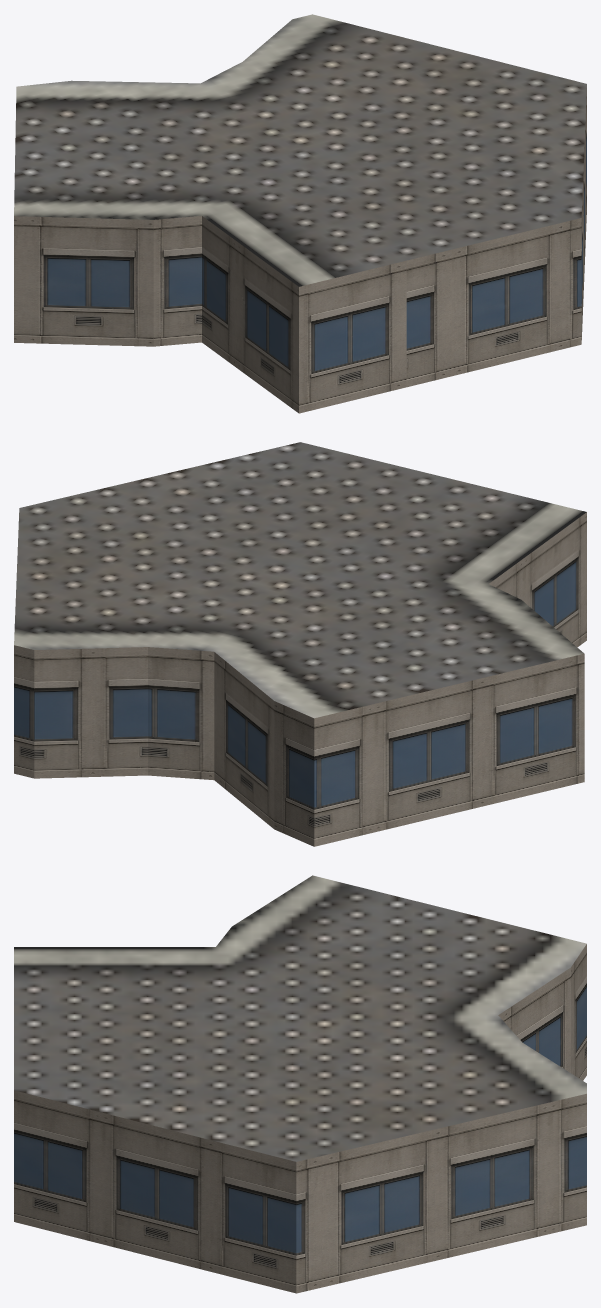
Rendered from building_light_a_46.glb.
The picture shows the model from 3 angles, top to bottom: view 1: azimuth 30°, elevation 25°; view 2: azimuth 150°, elevation 25°; view 3: azimuth 270°, elevation 25°; orthographic projection. The views are drawn at different scales.
Visible parts, largest first — view 1: buildings/saxarba/building_light/building_light_a_46; view 2: buildings/saxarba/building_light/building_light_a_46; view 3: buildings/saxarba/building_light/building_light_a_46.
Part boxes in pixels (x1,y1,x2,y2): buildings/saxarba/building_light/building_light_a_46: (14, 14, 586, 413); buildings/saxarba/building_light/building_light_a_46: (14, 442, 586, 846); buildings/saxarba/building_light/building_light_a_46: (14, 875, 586, 1293).
Bounding box in the file's own units: 84 × 18 × 71.
